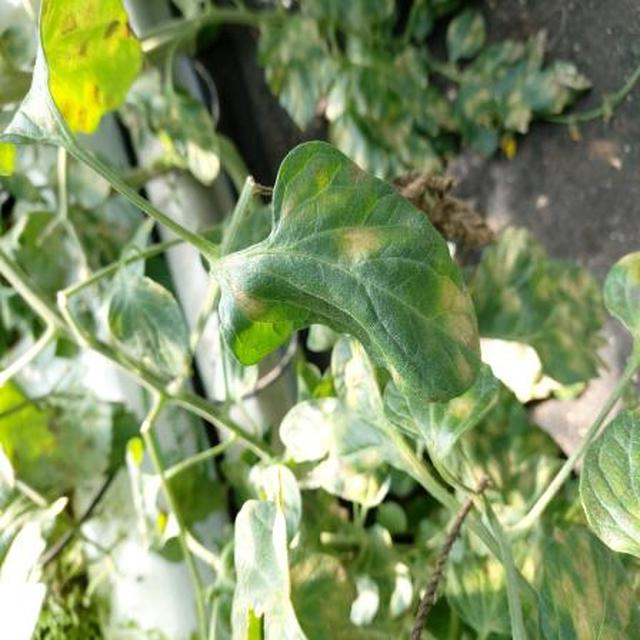Leaf Mold: (317, 203, 640, 581)
